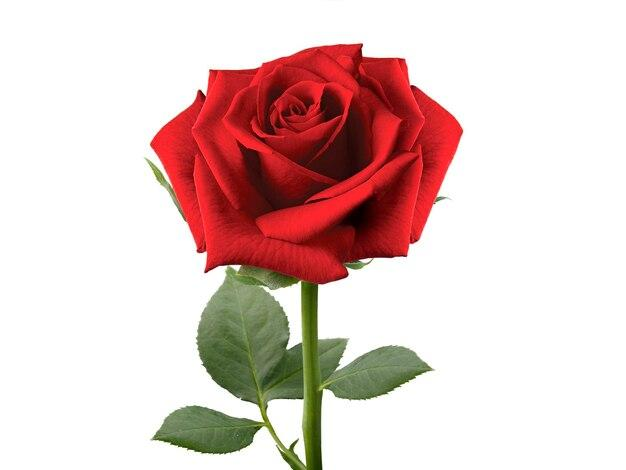rose: (132, 41, 492, 291)
